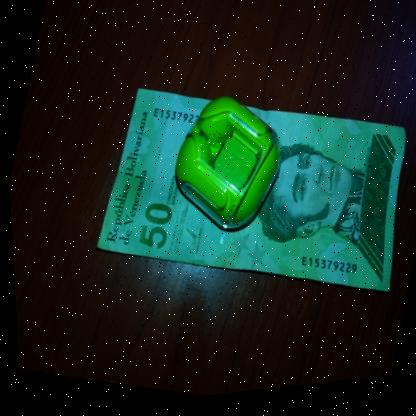fifty-front-vef: (86, 62, 416, 324)
